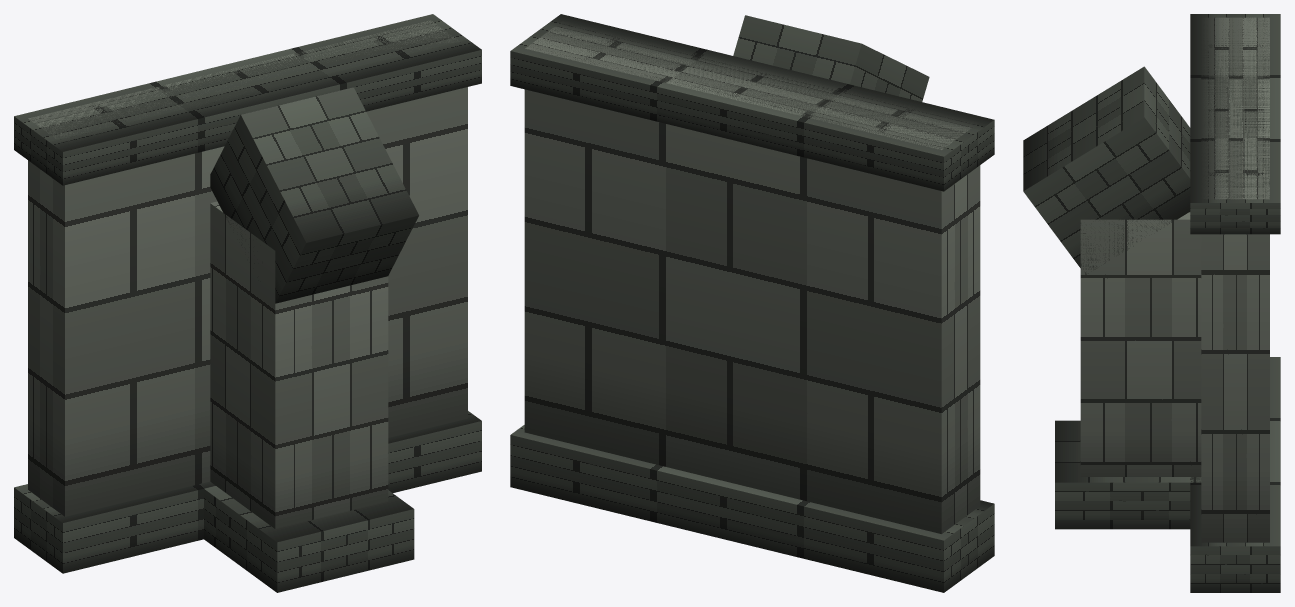
File: wall_buttress.gltf
3 renders of one model, left to right at view 1: azimuth 30°, elevation 25°; view 2: azimuth 150°, elevation 25°; view 3: azimuth 270°, elevation 25°, orthographic. The views are drawn at different scales.
Parts seen in each view (by area): view 1: wall_buttress; view 2: wall_buttress; view 3: wall_buttress.
Boxes of the visible parts, x1,y1,x2,y2 form: wall_buttress: (14,14,481,592); wall_buttress: (510,14,994,592); wall_buttress: (1023,14,1280,592).
Bounding box in the file's own units: 1.04 × 1.04 × 0.5986.
Materials: 1 (1 with a texture image).
